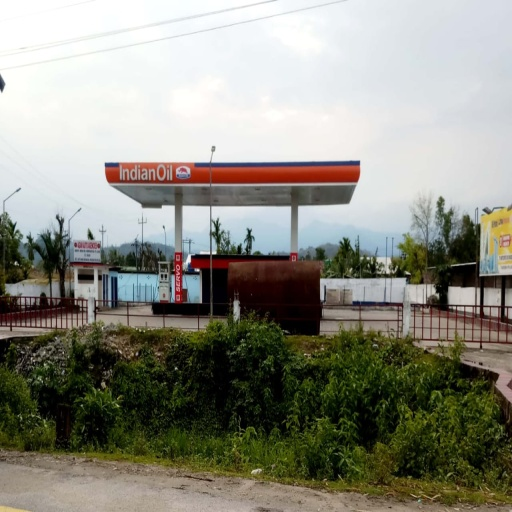roof: (104, 157, 368, 218)
